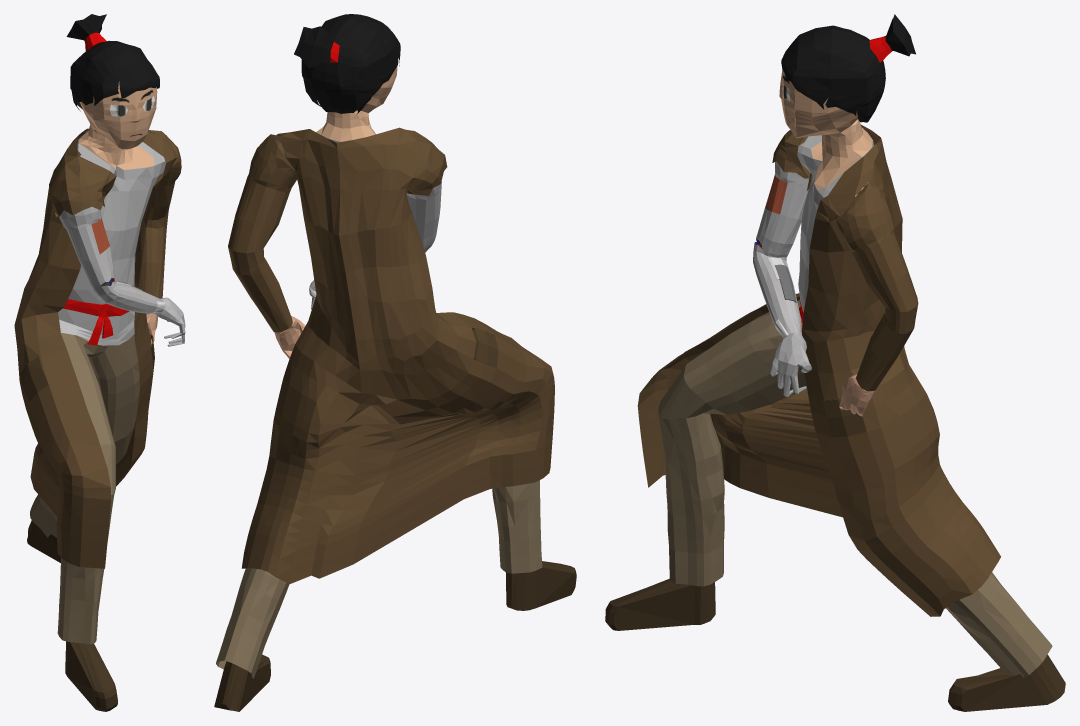
Rendered from One_RR_000007.obj.
3 renders of one model, left to right at view 1: azimuth 30°, elevation 25°; view 2: azimuth 150°, elevation 25°; view 3: azimuth 270°, elevation 25°, orthographic. The views are drawn at different scales.
Parts seen in each view (by area): view 1: Hair_Cube.004; view 2: Hair_Cube.004; view 3: Hair_Cube.004.
Part boxes in pixels (x1,y1,x2,y2): Hair_Cube.004: (14, 14, 185, 711); Hair_Cube.004: (214, 14, 576, 711); Hair_Cube.004: (605, 14, 1065, 711).
Bounding box in the file's own units: 1.29 × 3.62 × 2.24.
